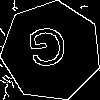G: (26, 26, 70, 77)
